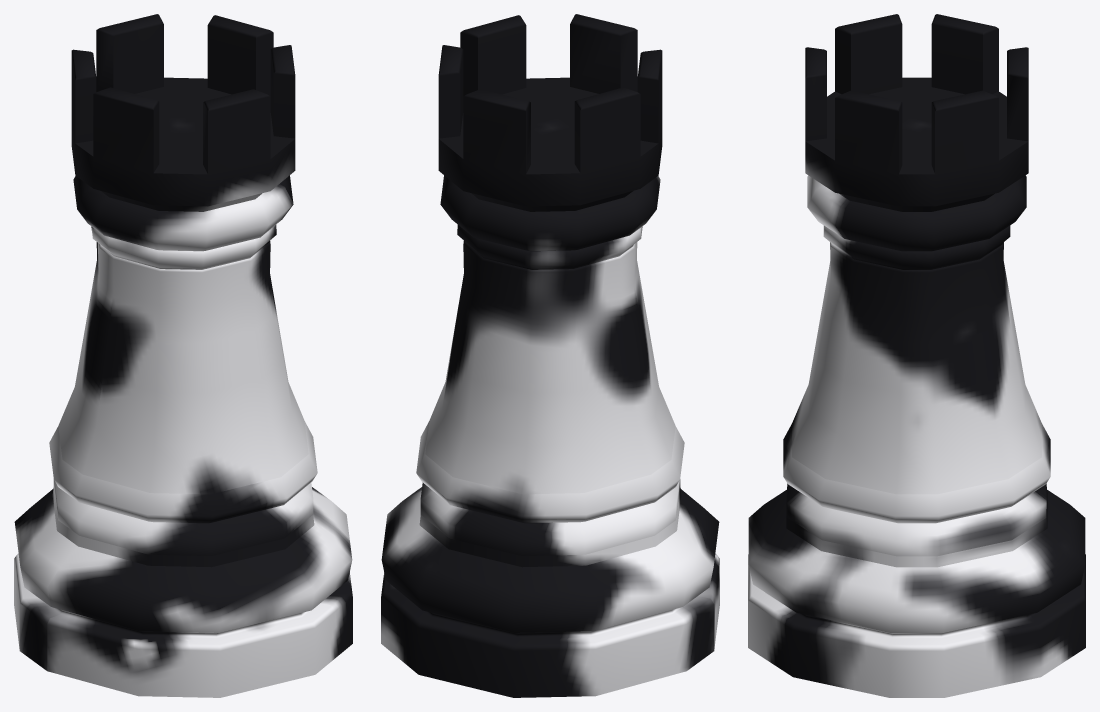
Rendered from item-3-7.glb.
The picture shows the model from 3 angles, left to right: view 1: azimuth 30°, elevation 25°; view 2: azimuth 150°, elevation 25°; view 3: azimuth 270°, elevation 25°; orthographic projection.
Parts seen in each view (by area): view 1: BlackTower; view 2: BlackTower; view 3: BlackTower.
Boxes of the visible parts, <box> form: BlackTower: <box>14,14,352,697</box>; BlackTower: <box>381,14,719,697</box>; BlackTower: <box>748,14,1085,697</box>.
Size of the model in its own units: 0.092 by 0.1651 by 0.0897.
1 material, 1 textured.
